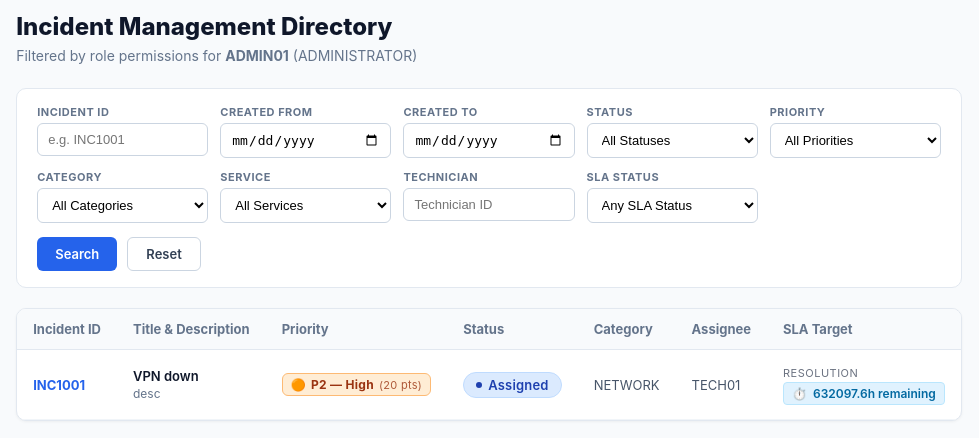
Test: IncidentListPage server-side search › displays exactly what the backend returns without filtering locally
The width and height of the screenshot is (979, 438).
Expected: the link "VPN down" is shown, [133,368,199,384]
Step 1. Type "ZZZ" into the field labelled "Incident ID" → x=123, y=140, box [37,123,208,156]
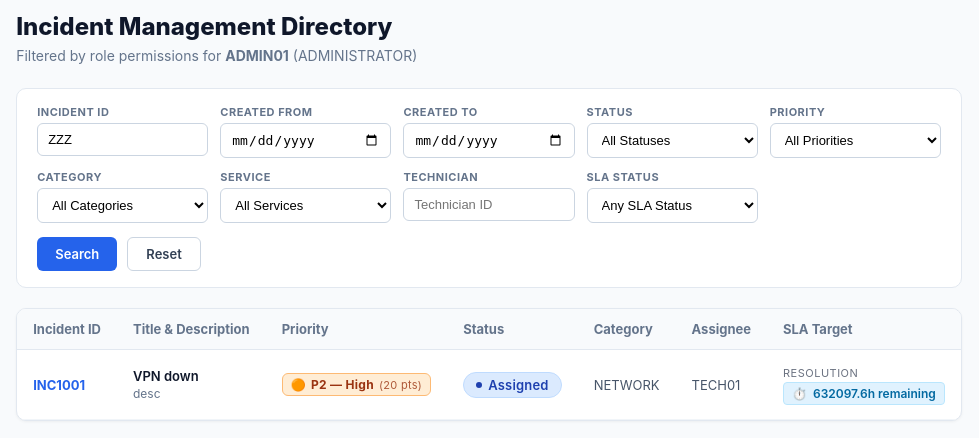
Step 2. Click the button "Search" → x=77, y=254, box [37,237,117,271]
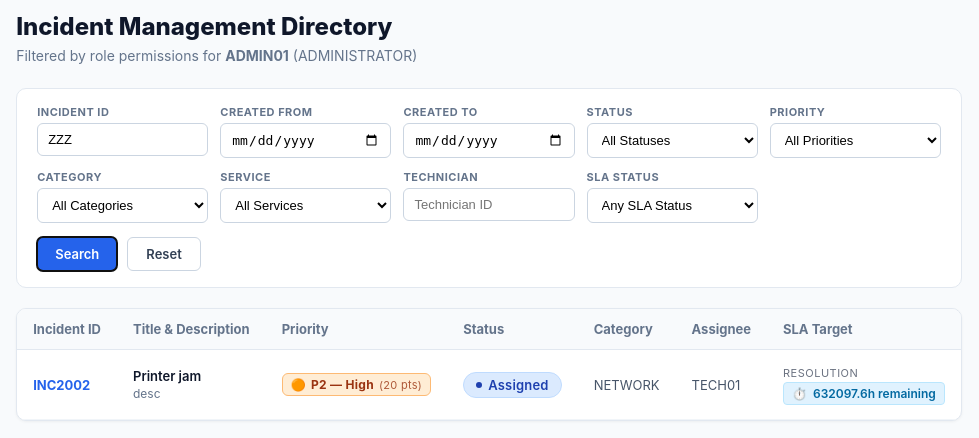
Expected: the link "Printer jam" is shown, [133,368,201,384]
Expected: the link "VPN down" is gone
